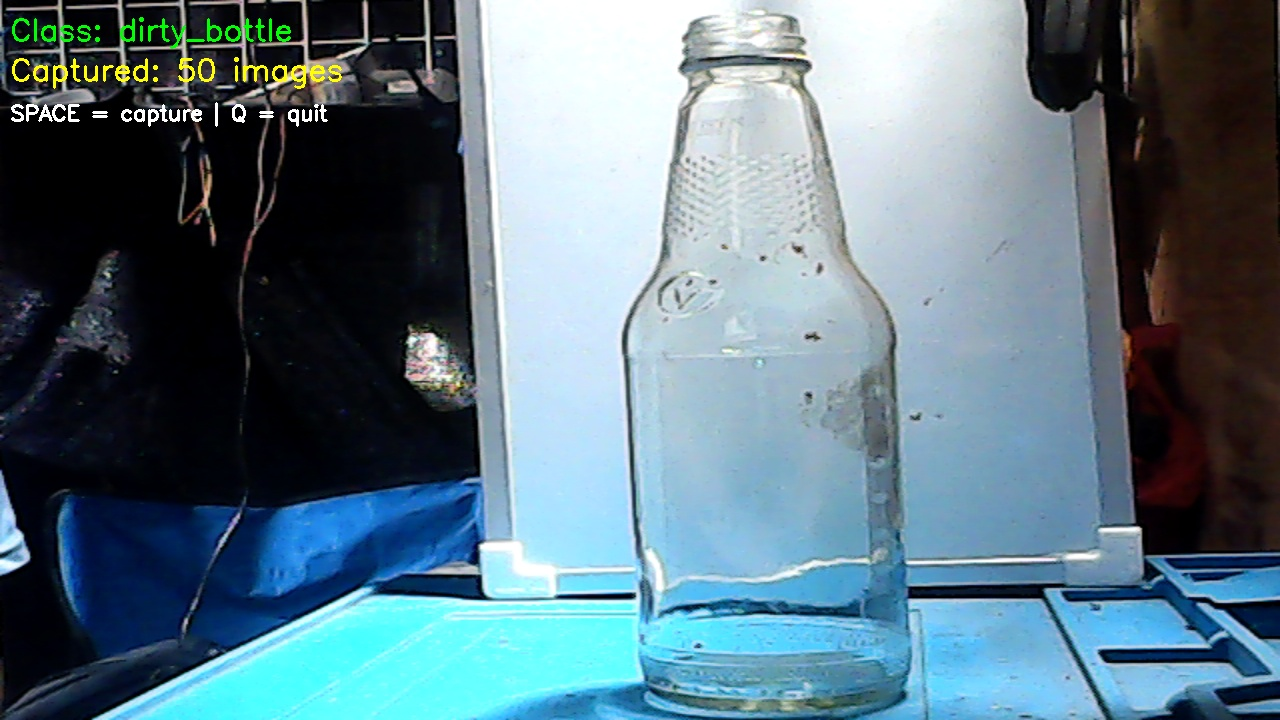dirty_bottle: (623, 10, 916, 713)
